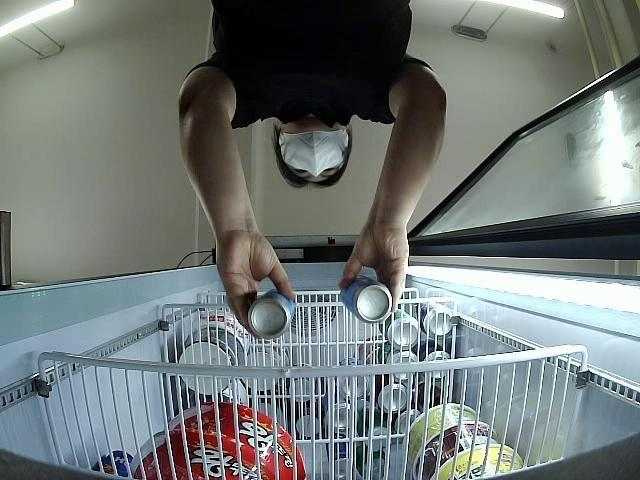15_letsbe: (340, 274, 392, 324), (247, 291, 295, 339)
